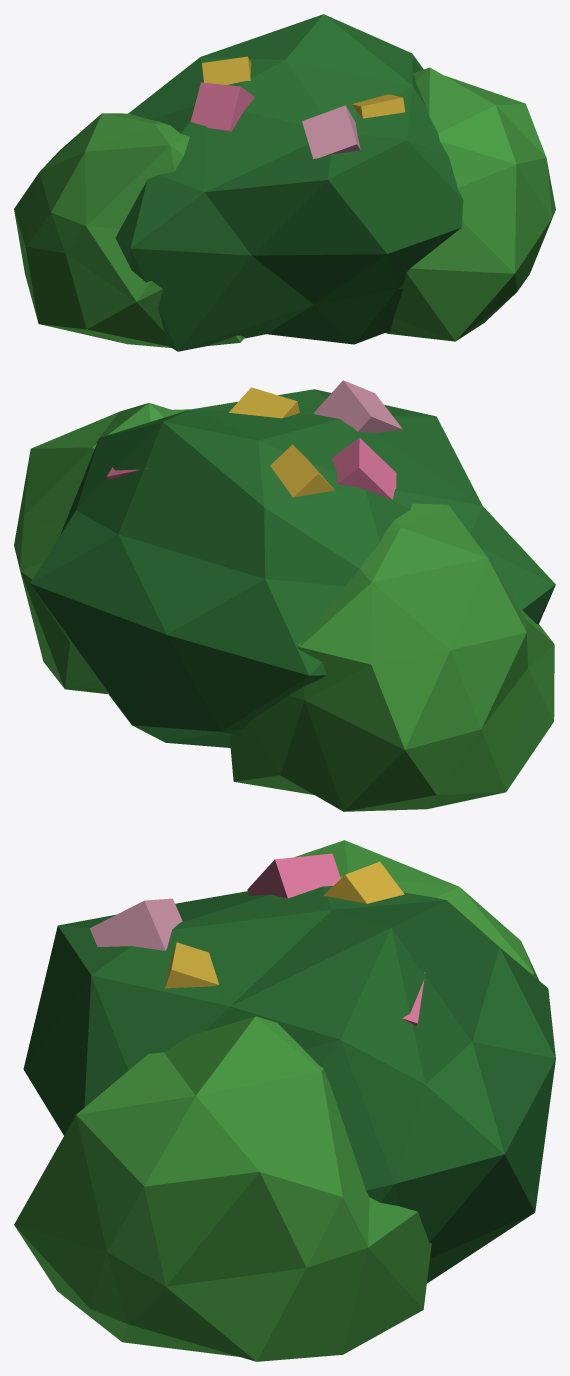
File: Scatter_BushFlowers.fbx
3 views of the same model, one above another, from view 1: azimuth 30°, elevation 25°; view 2: azimuth 150°, elevation 25°; view 3: azimuth 270°, elevation 25° (orthographic). The views are drawn at different scales.
Visible parts, largest first — view 1: BushFlowers; view 2: BushFlowers; view 3: BushFlowers.
Boxes of the visible parts, x1=… form: BushFlowers: x1=14, y1=14, x2=555, y2=351; BushFlowers: x1=14, y1=380, x2=555, y2=811; BushFlowers: x1=14, y1=840, x2=555, y2=1361.
Bounding box in the file's own units: 6.62 × 3.64 × 4.86.
